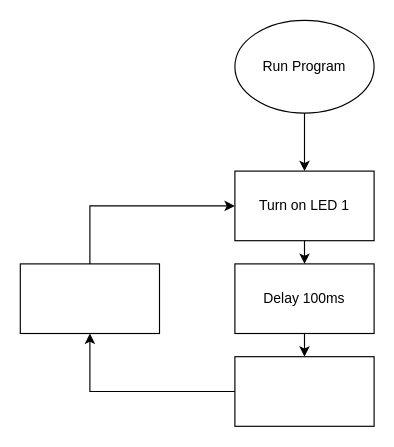
This 394x447 diagram has some shape labels left out. Here are the shapes that lost their labels. From the top down, the box of each, then its label:
(19, 263, 160, 334): Repeat to next LED in order of 2, 3, 4, 5, 4, 3, 2, 1
(234, 356, 374, 426): Turn off LED 1
